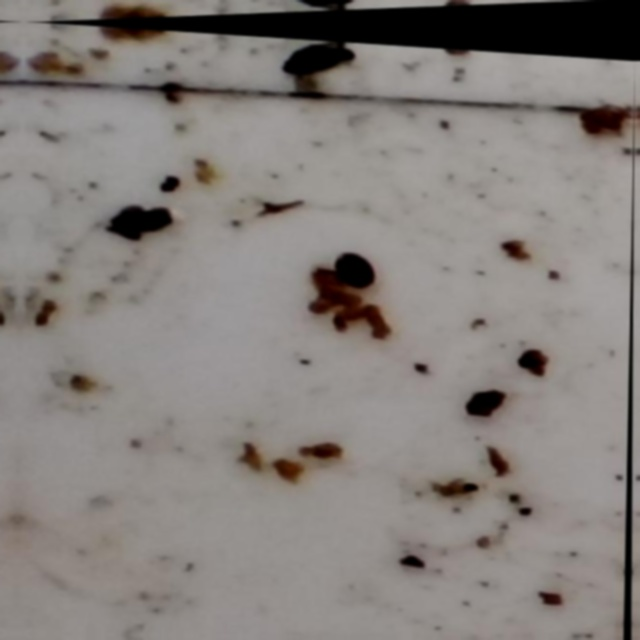varroa: (274, 36, 358, 79), (329, 247, 377, 289), (462, 383, 510, 413)
